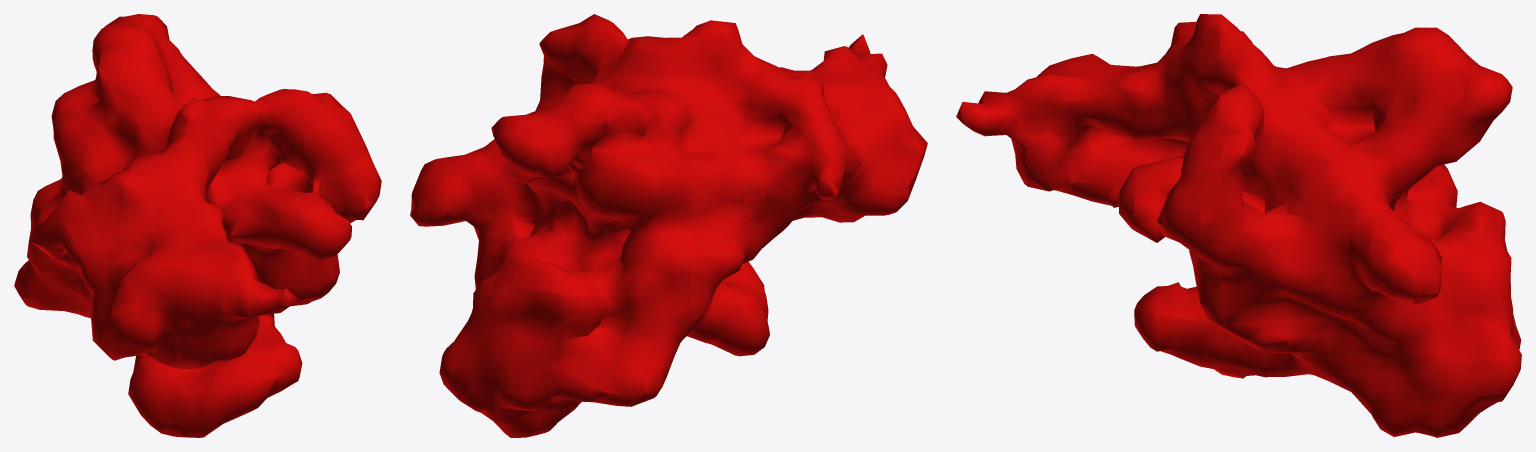
File: CoarseMS_2zjs.fbx
3 renders of one model, left to right at view 1: azimuth 30°, elevation 25°; view 2: azimuth 150°, elevation 25°; view 3: azimuth 270°, elevation 25°, orthographic. The views are drawn at different scales.
Visible parts, largest first — view 1: CoarseMS_2zjs_Mesh; view 2: CoarseMS_2zjs_Mesh; view 3: CoarseMS_2zjs_Mesh.
Boxes of the visible parts, left/top/right/bottom form: CoarseMS_2zjs_Mesh: left=14, top=14, right=381, bottom=437; CoarseMS_2zjs_Mesh: left=410, top=14, right=927, bottom=437; CoarseMS_2zjs_Mesh: left=956, top=14, right=1521, bottom=437.
Bounding box in the file's own units: 59.98 × 58.03 × 78.81.
